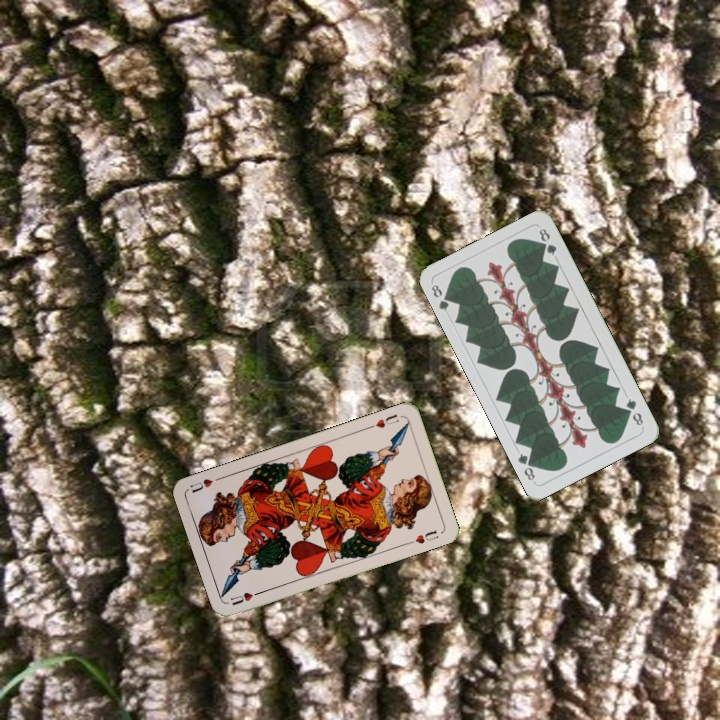G8: (427, 280, 455, 314), (622, 394, 646, 430)
HU: (226, 587, 265, 608), (365, 410, 402, 431)
